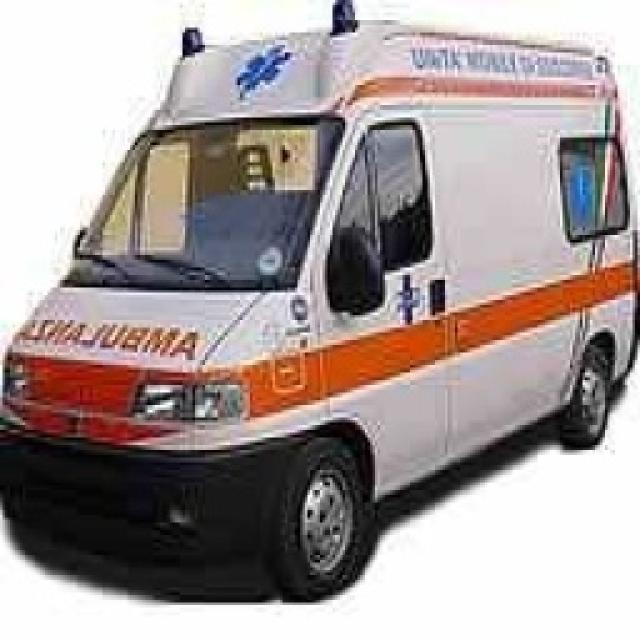emergency-vehicle: (0, 0, 640, 607)
